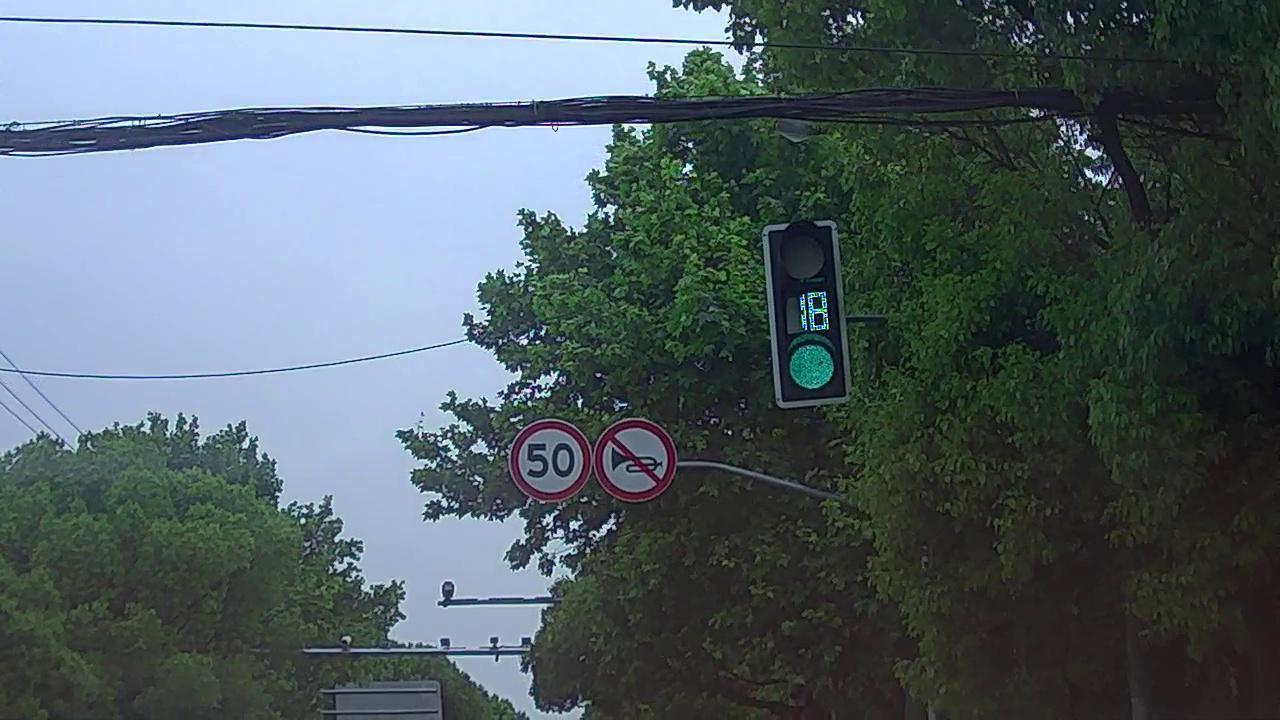traffic_light: (769, 229, 847, 401)
